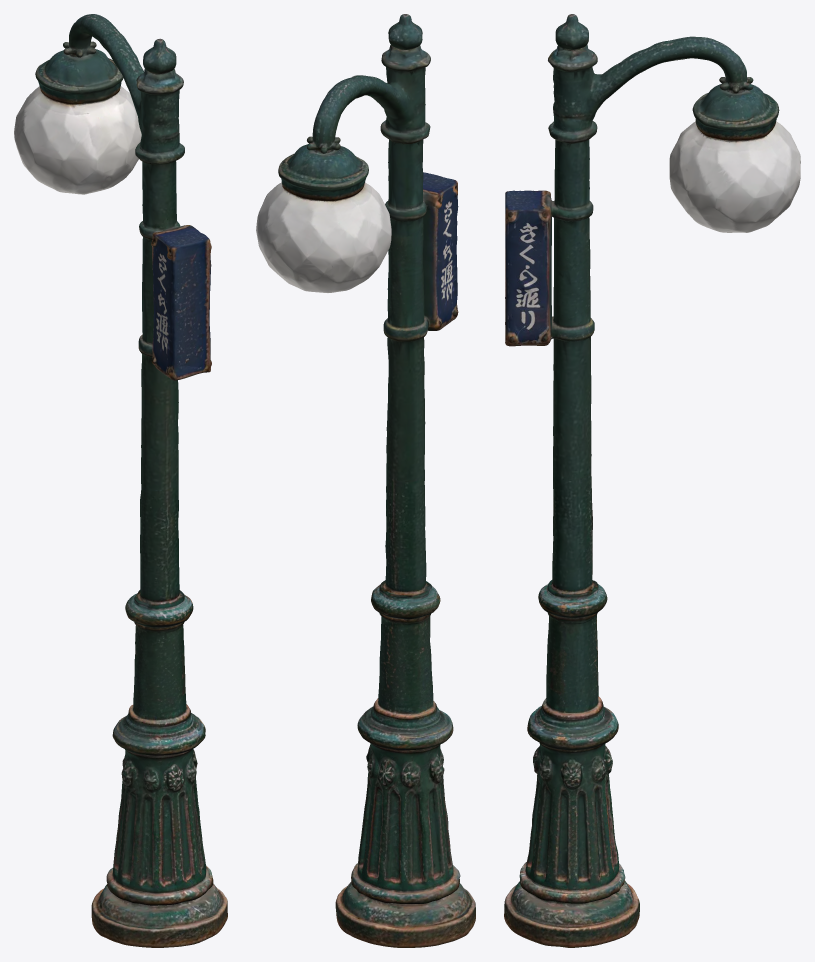
File: lamp.glb
3 views of the same model, side by side, from view 1: azimuth 30°, elevation 25°; view 2: azimuth 150°, elevation 25°; view 3: azimuth 270°, elevation 25° (orthographic). The views are drawn at different scales.
Visible parts, largest first — view 1: tripo_node_72e17b59-5cbb-4dcc-b5d7-97aba649faca; view 2: tripo_node_72e17b59-5cbb-4dcc-b5d7-97aba649faca; view 3: tripo_node_72e17b59-5cbb-4dcc-b5d7-97aba649faca.
Part boxes in pixels (left/top/right/bottom): tripo_node_72e17b59-5cbb-4dcc-b5d7-97aba649faca: left=14, top=14, right=227, bottom=947; tripo_node_72e17b59-5cbb-4dcc-b5d7-97aba649faca: left=256, top=14, right=475, bottom=947; tripo_node_72e17b59-5cbb-4dcc-b5d7-97aba649faca: left=504, top=14, right=800, bottom=947.
Size of the model in its own units: 0.1418 by 1 by 0.2974.
1 material, 1 textured.
